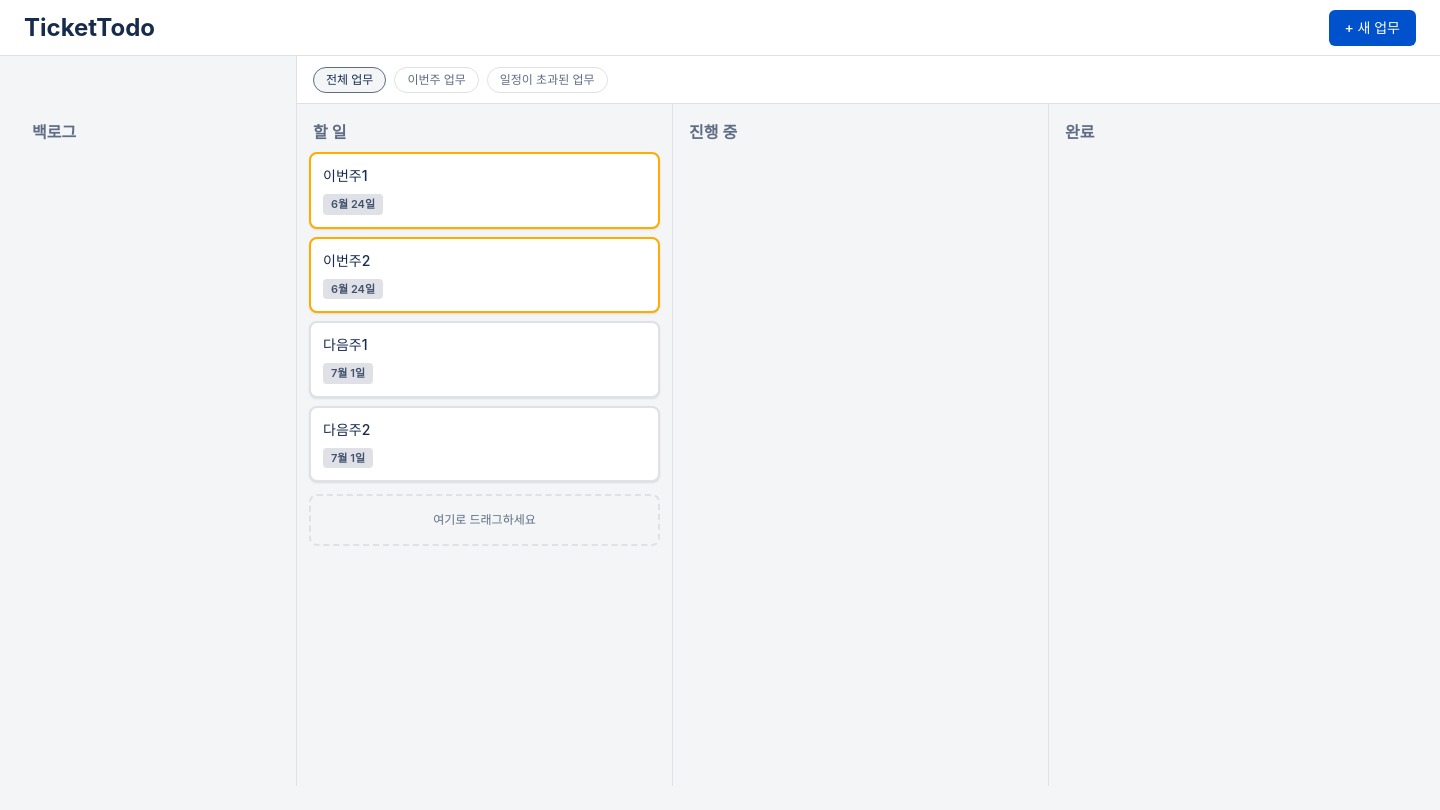
시나리오 D — 이번주 업무 필터 › TC-INT-014: "이번주 업무" 필터 → 이번 주 카드만 표시
Check: the text "이번주1" is shown, box [323,167,368,184]
Click the button "이번주 업무".
click(437, 80)  # box [394,66,479,92]
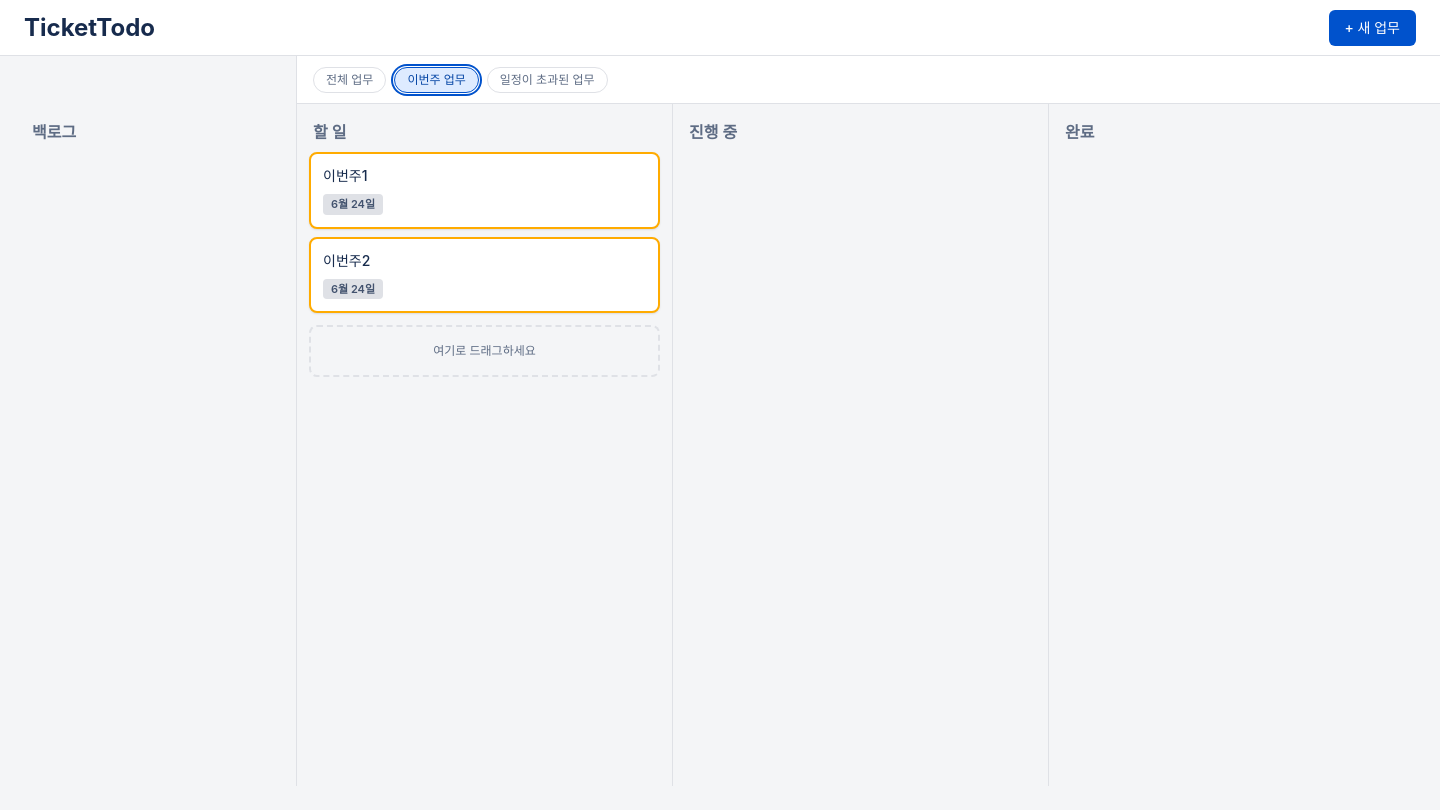
Check: the text "이번주1" is shown, box [323,167,368,184]
Check: the list item "다음주1" is gone
Check: the list item "다음주2" is gone
